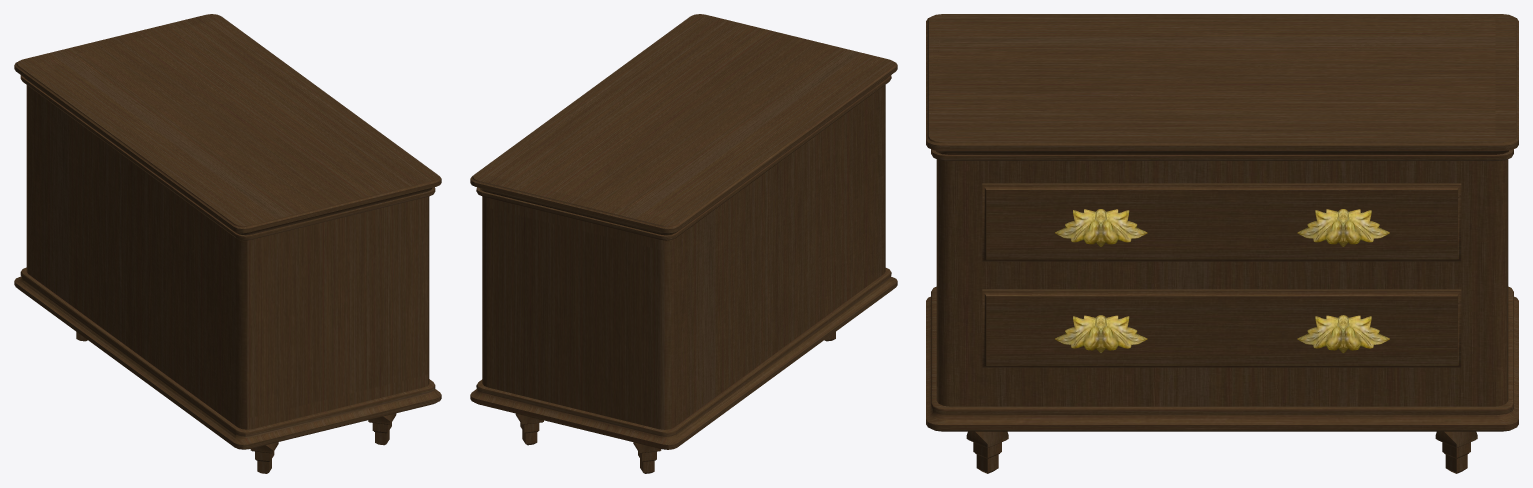
Rendered from Drawer.fbx.
3 views of the same model, side by side, from view 1: azimuth 30°, elevation 25°; view 2: azimuth 150°, elevation 25°; view 3: azimuth 270°, elevation 25° (orthographic). The views are drawn at different scales.
Visible parts, largest first — view 1: Drawer; view 2: Drawer; view 3: Drawer.
Boxes of the visible parts, x1,y1,x2,y2 form: Drawer: (14,14,441,473); Drawer: (470,14,897,473); Drawer: (926,14,1518,473).
Bounding box in the file's own units: 1.13 × 1.37 × 2.08.
